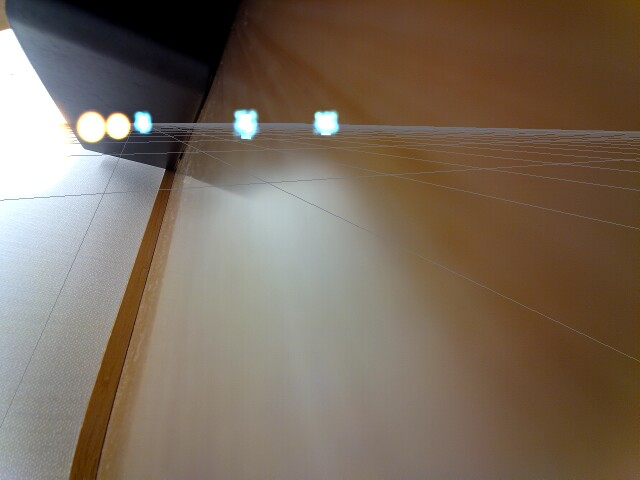fire: (0, 96, 75, 198), (75, 110, 106, 144), (106, 112, 131, 140)
